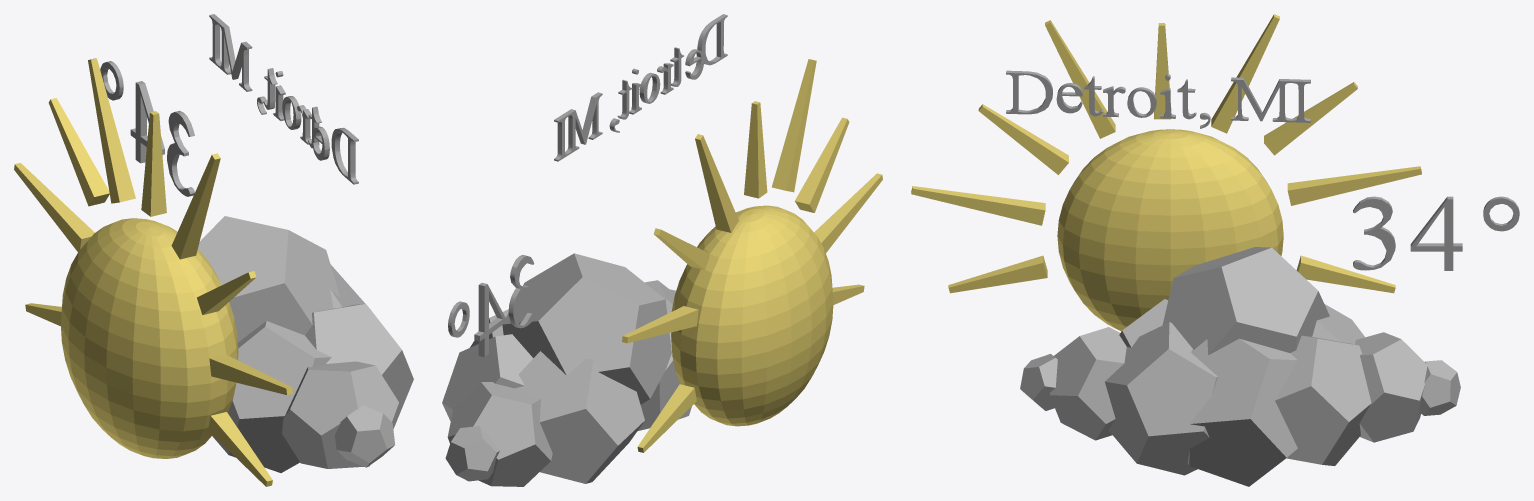
Rendered from weather.fbx.
3 views of the same model, side by side, from view 1: azimuth 30°, elevation 25°; view 2: azimuth 150°, elevation 25°; view 3: azimuth 270°, elevation 25° (orthographic). The views are drawn at different scales.
Visible parts, largest first — view 1: pSphere1, pSolid10, pSolid6, pSolid7, pSolid8, pSolid9, pCube1, pCube9, pCube3, pCube10, pCube2, pCube6 (+12 smaller); view 2: pSphere1, pSolid10, pSolid3, pSolid2, pSolid1, pSolid4, pCube3, pCube1, pCube4, pCube2, pCube5, pCube11 (+8 smaller); view 3: pSphere1, pSolid10, pSolid8, pSolid5, pSolid1, pSolid7, pSolid2, pCube5, pCube10, pSolid4, pCube1, pCube4 (+13 smaller).
Part boxes in pixels (bbox=[...]): pSphere1: bbox=[60, 218, 238, 458]; pSolid10: bbox=[198, 216, 340, 342]; pSolid6: bbox=[212, 321, 331, 472]; pSolid7: bbox=[282, 361, 398, 468]; pSolid8: bbox=[305, 303, 413, 428]; pSolid9: bbox=[335, 405, 395, 467]; pCube1: bbox=[88, 58, 135, 203]; pCube9: bbox=[48, 98, 109, 206]; pCube3: bbox=[171, 153, 220, 259]; pCube10: bbox=[14, 163, 94, 251]; pCube2: bbox=[141, 111, 166, 216]; pCube6: bbox=[208, 412, 272, 486]; pSphere1: bbox=[671, 205, 833, 426]; pSolid10: bbox=[502, 253, 671, 404]; pSolid3: bbox=[515, 351, 644, 483]; pSolid2: bbox=[447, 382, 552, 486]; pSolid1: bbox=[442, 334, 533, 421]; pSolid4: bbox=[445, 426, 500, 481]; pCube3: bbox=[772, 59, 816, 192]; pCube1: bbox=[695, 134, 738, 232]; pCube4: bbox=[795, 117, 849, 212]; pCube2: bbox=[744, 101, 767, 198]; pCube5: bbox=[814, 173, 882, 252]; pCube11: bbox=[637, 384, 696, 452]; pSphere1: bbox=[1057, 129, 1283, 331]; pSolid10: bbox=[1162, 247, 1329, 355]; pSolid8: bbox=[1105, 322, 1217, 475]; pSolid5: bbox=[1187, 338, 1297, 486]; pSolid1: bbox=[1275, 335, 1371, 465]; pSolid7: bbox=[1050, 327, 1126, 440]; pSolid2: bbox=[1355, 332, 1427, 442]; pCube5: bbox=[911, 186, 1045, 225]; pCube10: bbox=[1287, 166, 1421, 205]; pSolid4: bbox=[1419, 360, 1460, 415]; pCube1: bbox=[1211, 14, 1279, 133]; pCube4: bbox=[978, 104, 1068, 174].
Size of the model in its own units: 20.35 by 23.99 by 35.06.
